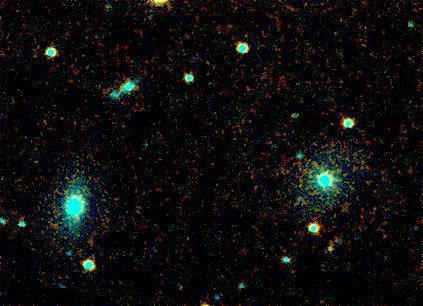star: (316, 235, 346, 265)
